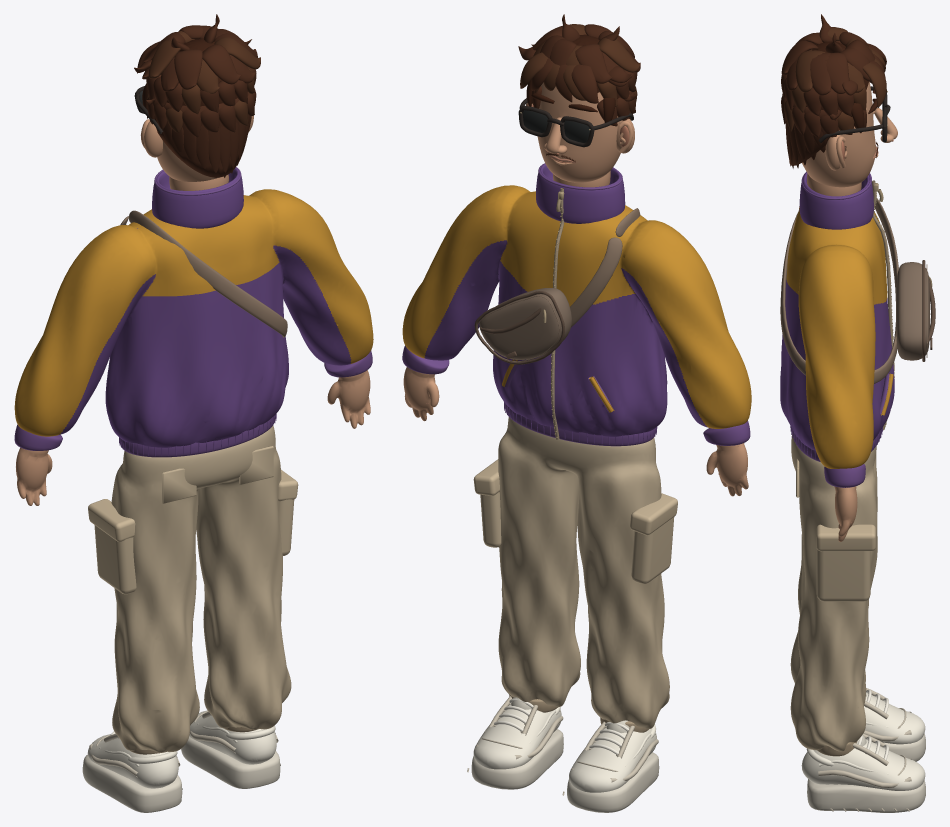
The model's file is kalle-3d.glb.
3 views of the same model, side by side, from view 1: azimuth 30°, elevation 25°; view 2: azimuth 150°, elevation 25°; view 3: azimuth 270°, elevation 25° (orthographic). The views are drawn at different scales.
Parts seen in each view (by area): view 1: figure; view 2: figure; view 3: figure.
Boxes of the visible parts, x1=… form: figure: x1=14, y1=14, x2=373, y2=812; figure: x1=402, y1=14, x2=751, y2=812; figure: x1=780, y1=14, x2=935, y2=812.
Bounding box in the file's own units: 0.845 × 1.76 × 0.3297.
